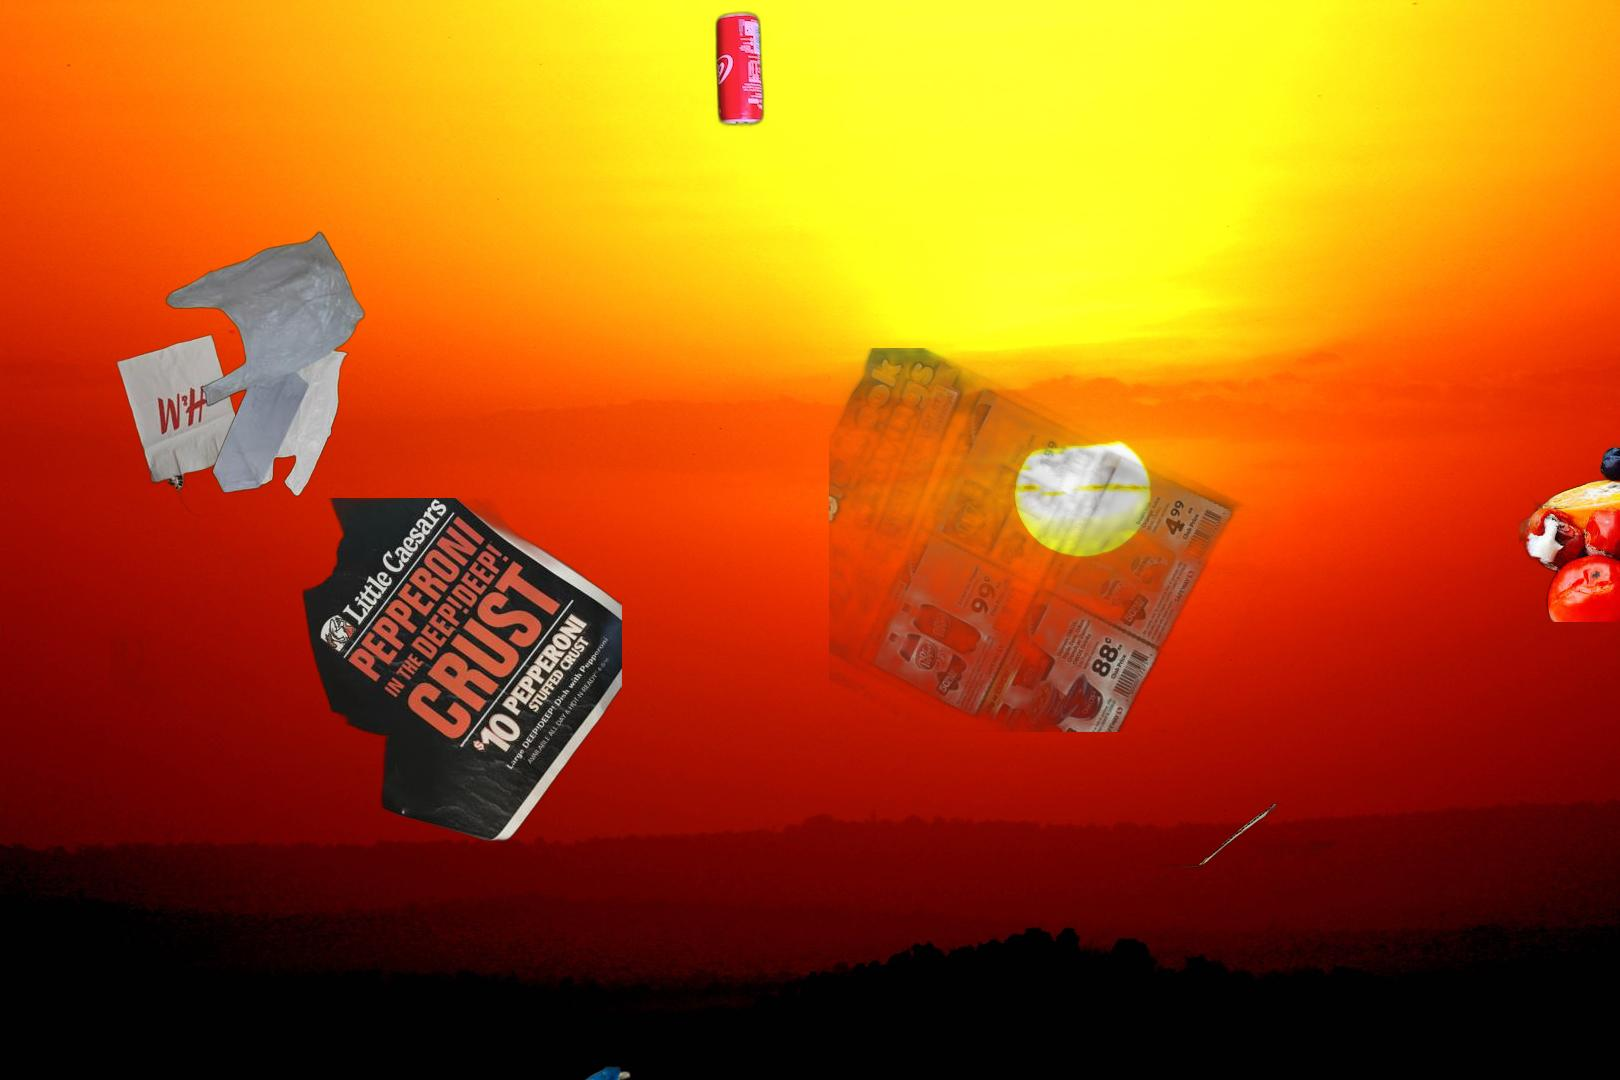biological: (1519, 428, 1620, 622)
metal-cans: (712, 7, 767, 131)
paper: (829, 348, 1319, 732), (110, 498, 622, 845)
paper-bag: (113, 331, 250, 518)
plastic-bag: (164, 230, 366, 497), (491, 1063, 680, 1080)
trashbox-cardboard: (1154, 802, 1343, 884)
